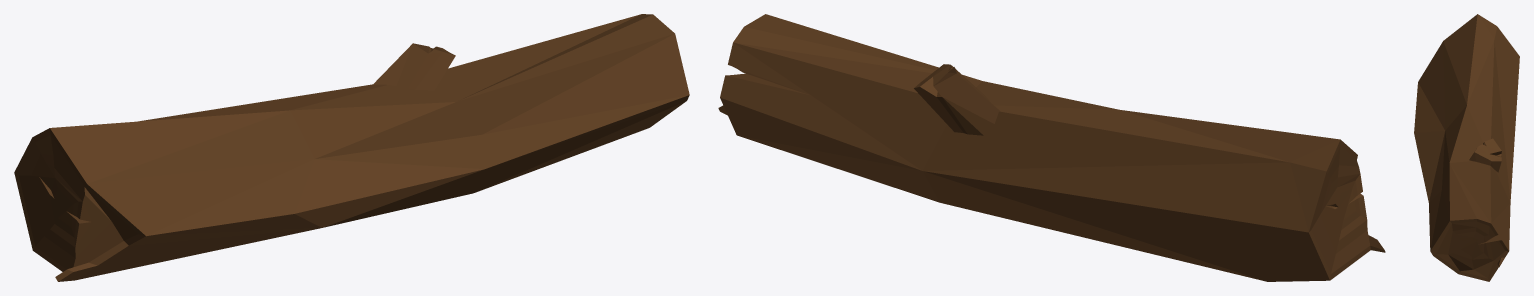
The model's file is tree-oak-log-a.gltf.
The picture shows the model from 3 angles, left to right: view 1: azimuth 30°, elevation 25°; view 2: azimuth 150°, elevation 25°; view 3: azimuth 270°, elevation 25°; orthographic projection. The views are drawn at different scales.
Parts seen in each view (by area): view 1: tree-oak-log-a; view 2: tree-oak-log-a; view 3: tree-oak-log-a.
Boxes of the visible parts, <box> form: tree-oak-log-a: <box>14,14,689,281</box>; tree-oak-log-a: <box>718,14,1385,281</box>; tree-oak-log-a: <box>1414,14,1519,281</box>.
Bounding box in the file's own units: 0.0299 × 0.00694 × 0.00696.
